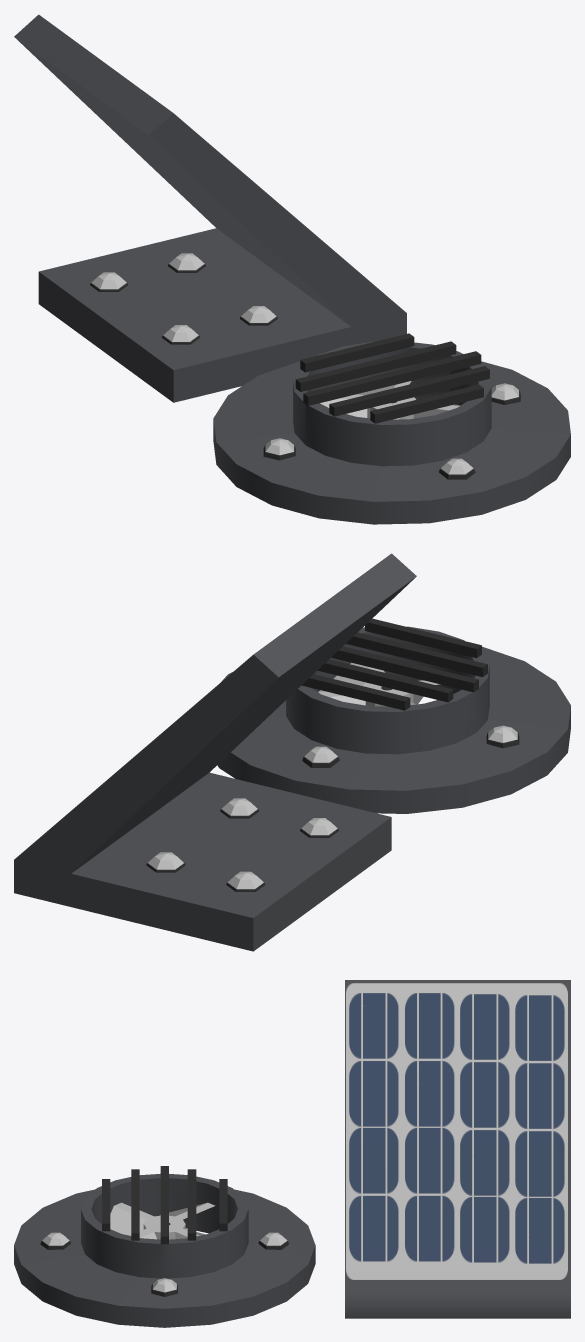
The model's file is adef45b8-f830-47db-a741-0b4b8e0c1750.glb.
3 views of the same model, one above another, from view 1: azimuth 30°, elevation 25°; view 2: azimuth 150°, elevation 25°; view 3: azimuth 270°, elevation 25° (orthographic). The views are drawn at different scales.
Visible parts, largest first — view 1: Solar_battery, Attic_Fan, Fan1; view 2: Solar_battery, Attic_Fan, Fan1; view 3: Solar_battery, Attic_Fan, Fan1.
Boxes of the visible parts, left/top/right/bottom form: Solar_battery: left=14, top=14, right=406, bottom=402; Attic_Fan: left=213, top=333, right=570, bottom=524; Fan1: left=320, top=381, right=460, bottom=419; Solar_battery: left=14, top=553, right=416, bottom=951; Attic_Fan: left=217, top=618, right=570, bottom=813; Fan1: left=318, top=663, right=440, bottom=706; Solar_battery: left=345, top=980, right=570, bottom=1318; Attic_Fan: left=14, top=1166, right=315, bottom=1327; Fan1: left=110, top=1202, right=215, bottom=1239.
Bounding box in the file's own units: 720 × 640 × 1330.
Materials: 1 (1 with a texture image).
